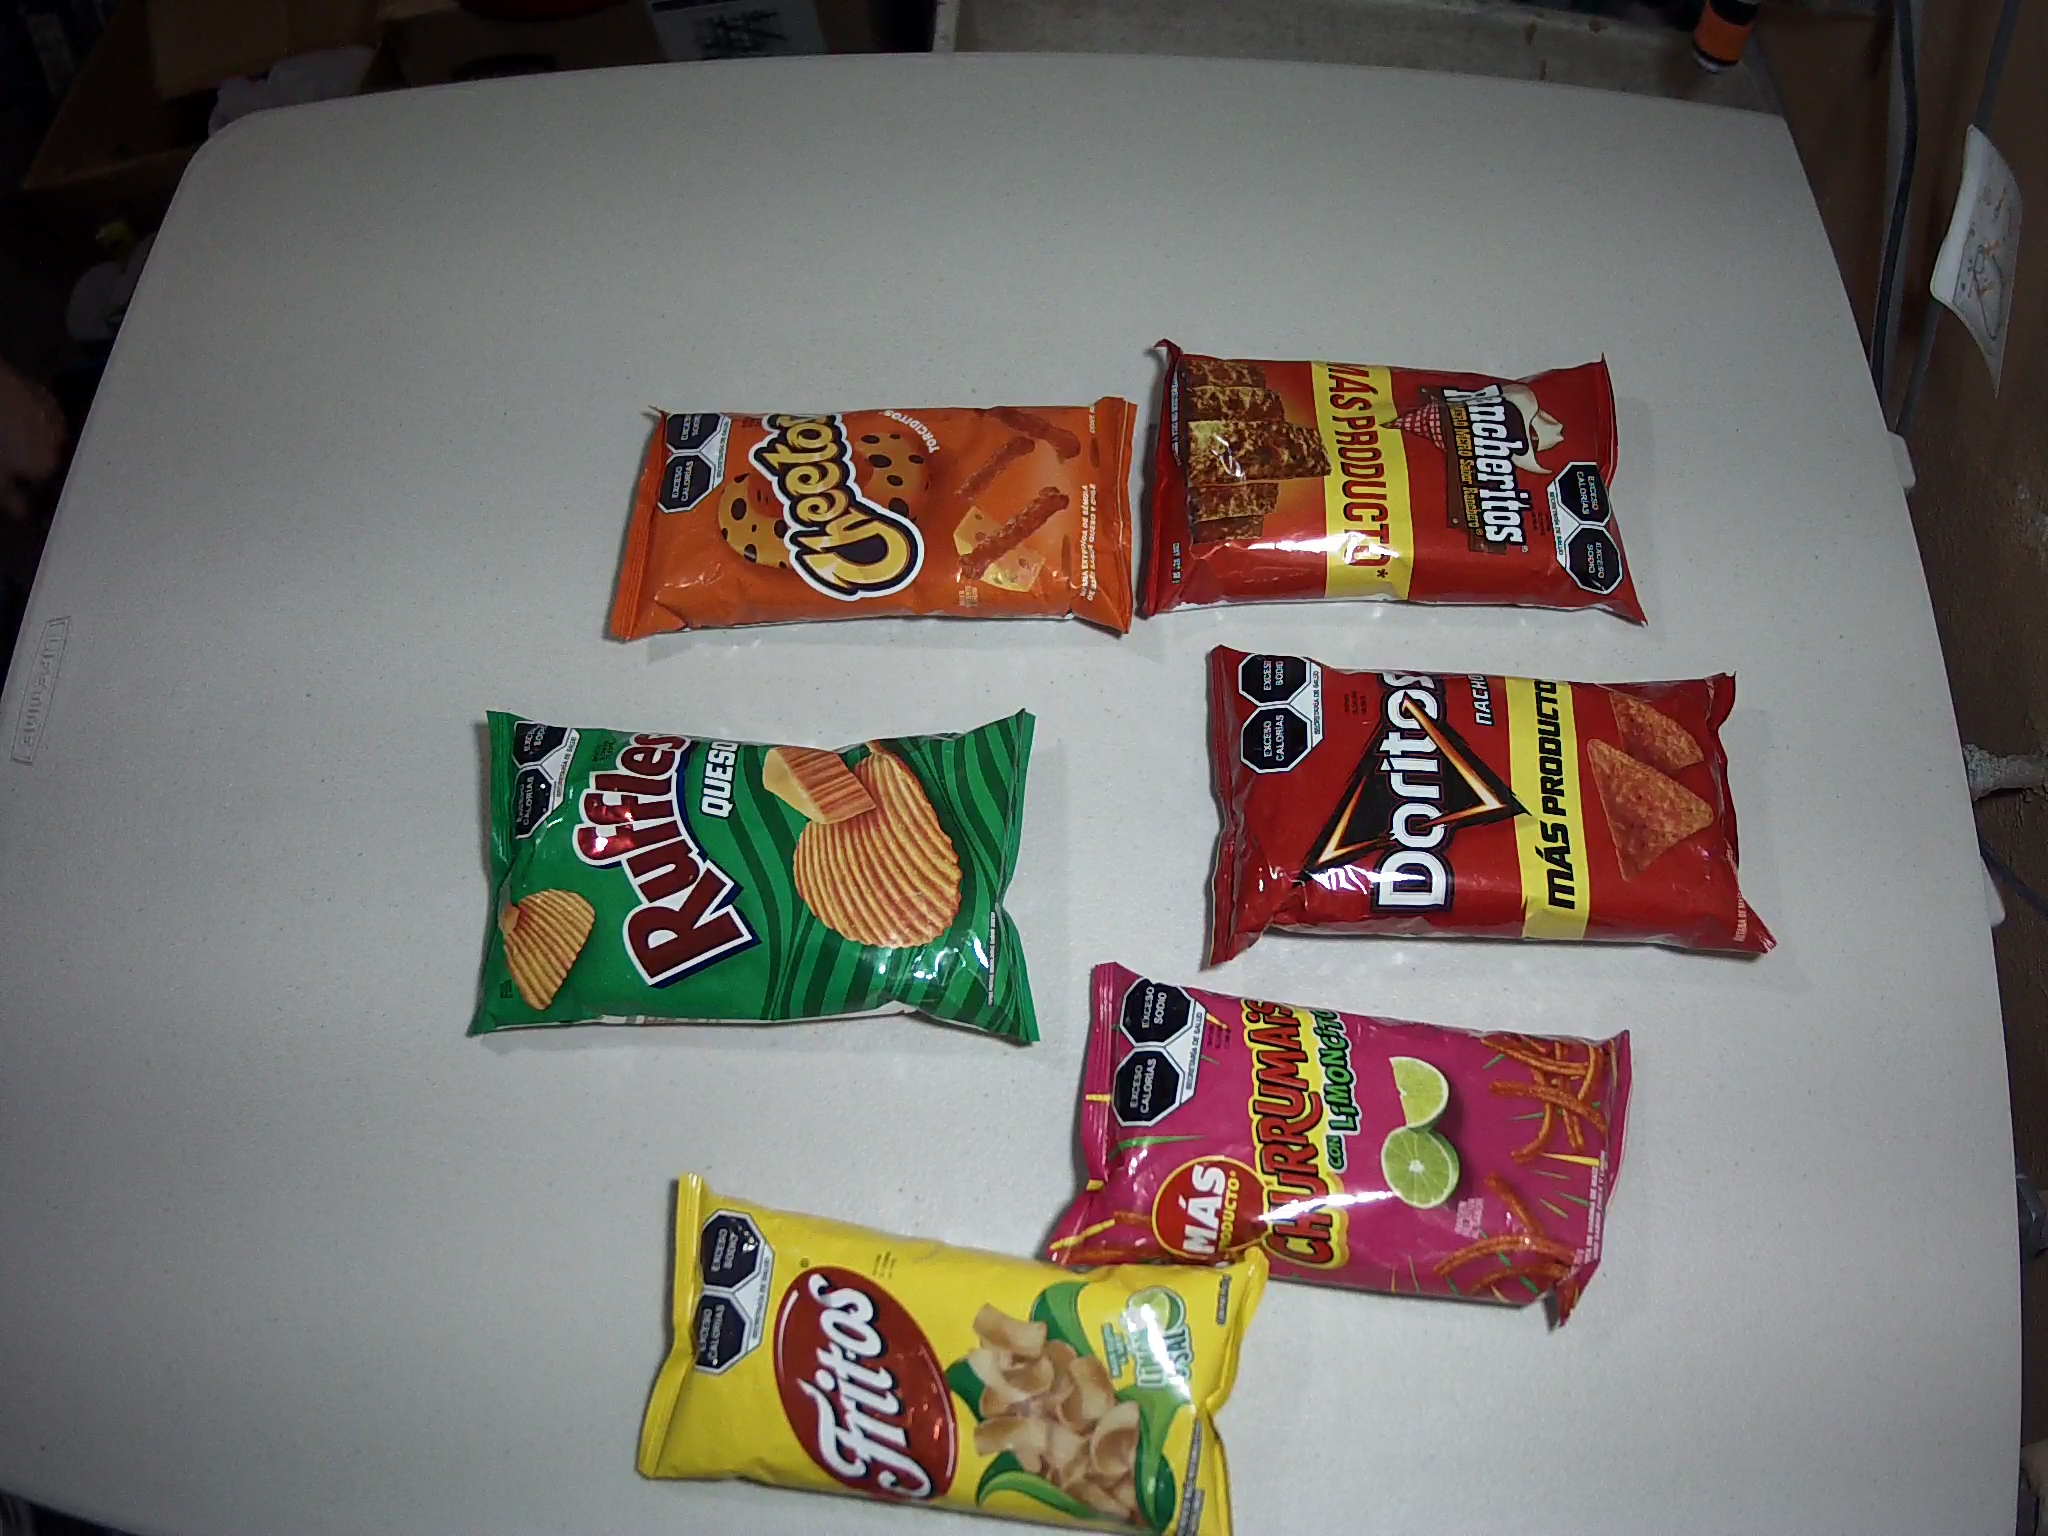CheetosTorciditos_55_F: (605, 395, 1135, 644)
Churrumais_70_F: (1039, 962, 1635, 1326)
DoritosN_61_F: (1206, 644, 1777, 965)
FritosSalLimon_65_F: (635, 1167, 1268, 1536)
Rancheritos_58_F: (1137, 339, 1651, 629)
RufflesQ_48_F: (464, 703, 1042, 1049)
